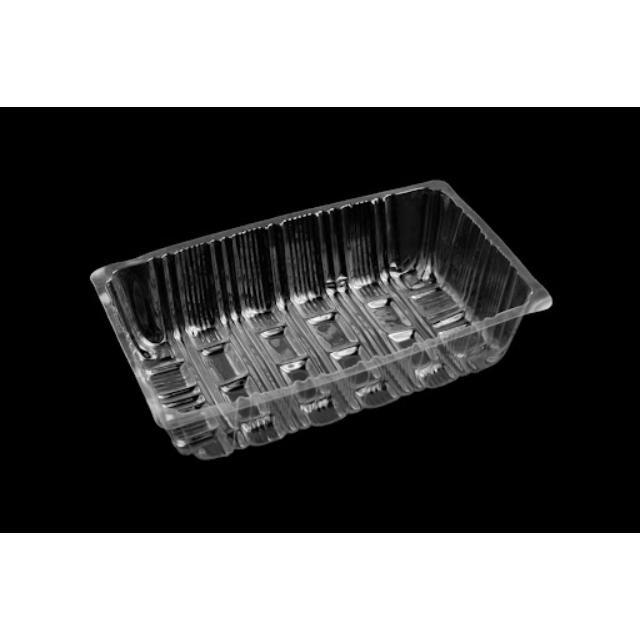Recipiente plastico: (89, 180, 554, 464)
